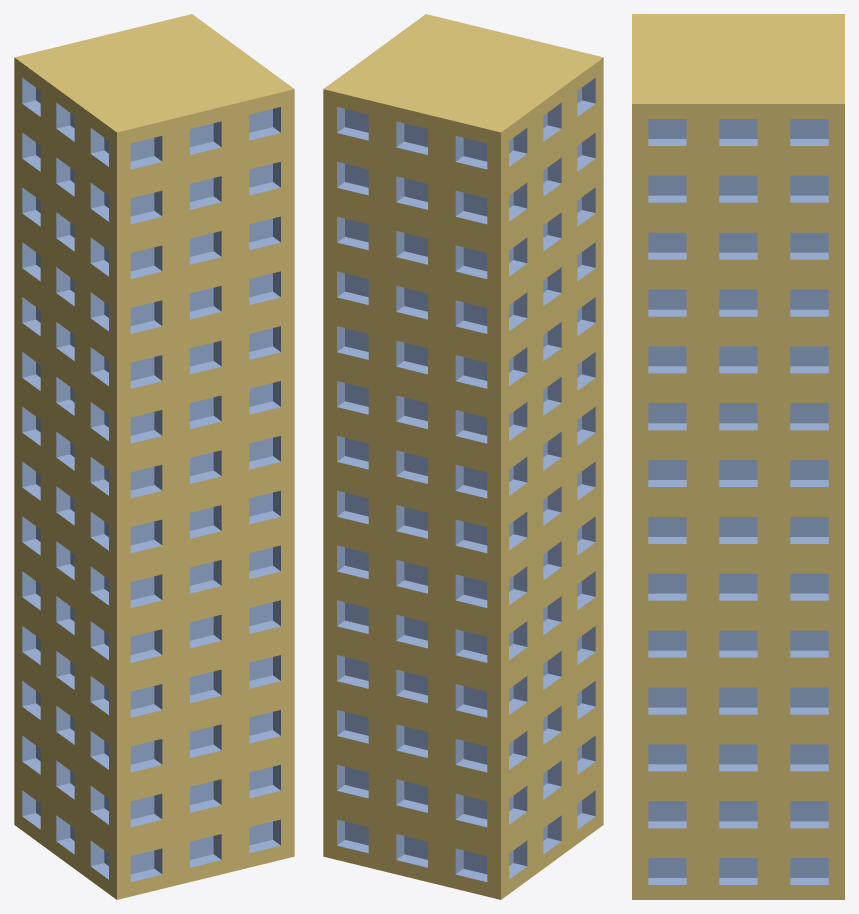
Rendered from bat3.fbx.
3 views of the same model, side by side, from view 1: azimuth 30°, elevation 25°; view 2: azimuth 150°, elevation 25°; view 3: azimuth 270°, elevation 25° (orthographic). The views are drawn at different scales.
Parts seen in each view (by area): view 1: Cube; view 2: Cube; view 3: Cube.
Boxes of the visible parts, bbox=[...] form: Cube: bbox=[14, 14, 294, 899]; Cube: bbox=[323, 14, 603, 899]; Cube: bbox=[632, 14, 844, 899].
Bounding box in the file's own units: 4694 × 19362 × 4694.
